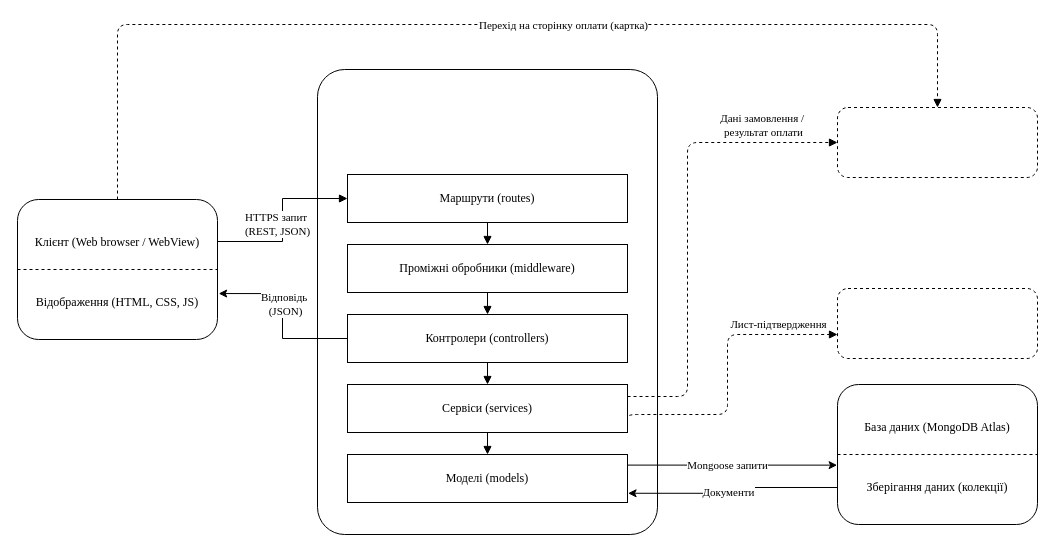
The diagram is 1056 pixels wide and 552 high, and some of its shapes have lost their labels. Here are the shapes that lost their labels. From the top down, the box of each, then its label:
(836, 106, 1038, 178): Платіжний сервіс (зовнішній)
(316, 68, 658, 534): Сервер застосунку (Node.js, Express)
(836, 288, 1038, 358): Поштовий сервіс (зовнішній)
